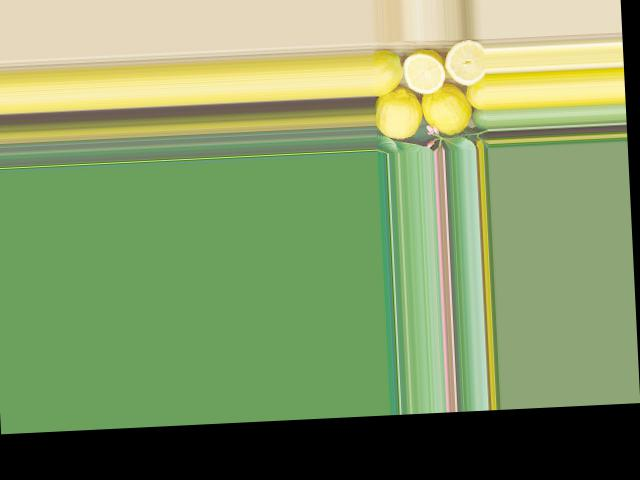lemon: (371, 50, 410, 101)
